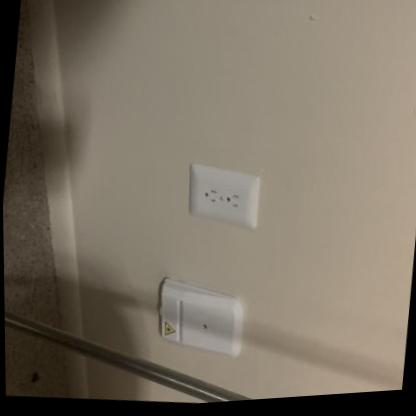OUTLET: (187, 157, 263, 228)
